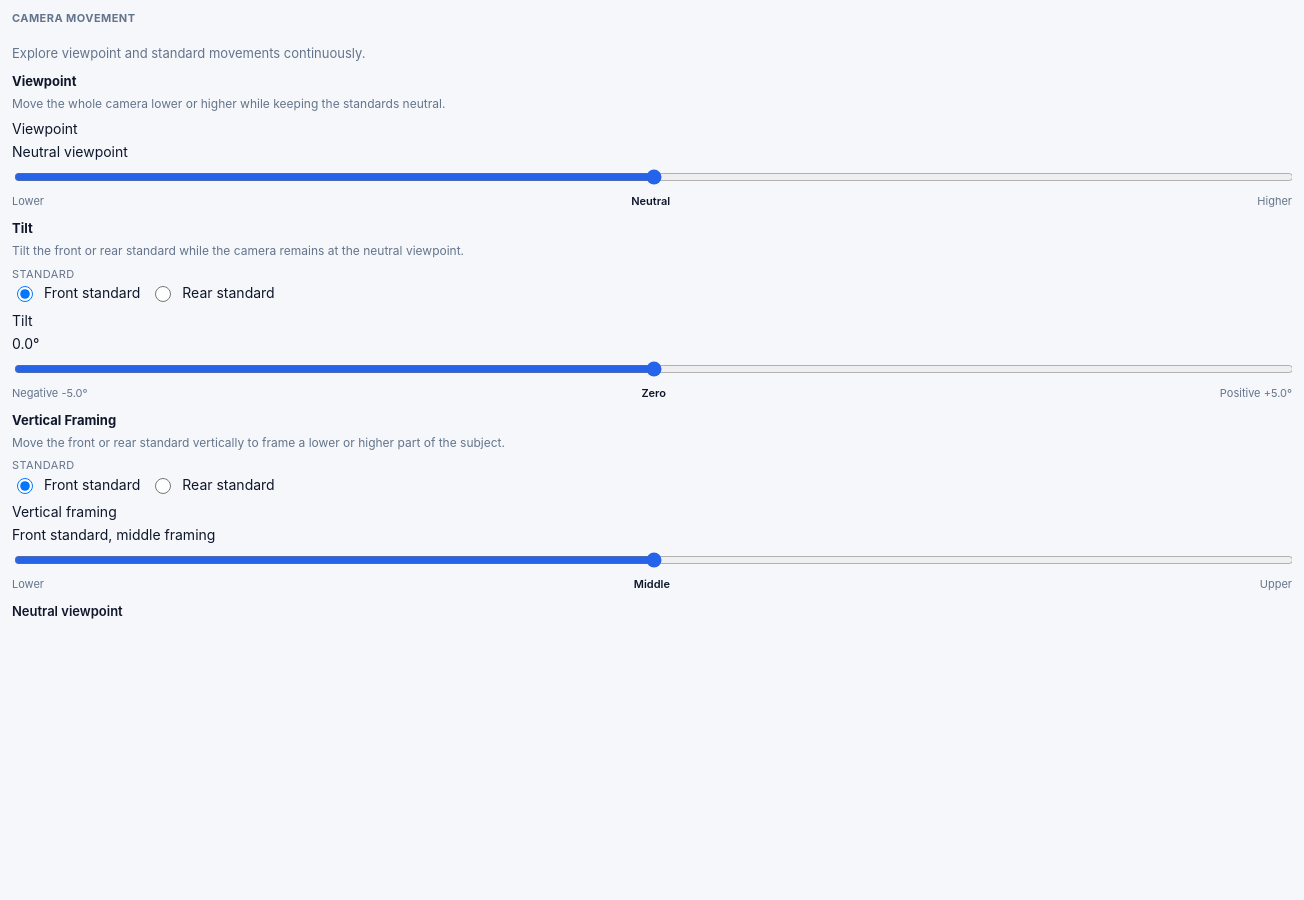
CameraMovementTeachingControls › applies positive Front tilt only and transfers the signed value to Rear
The image size is (1304, 900).
Set the slider labelled "Tilt" to "5" at (1284, 369), box x1=14 y1=361 x2=1292 y2=377
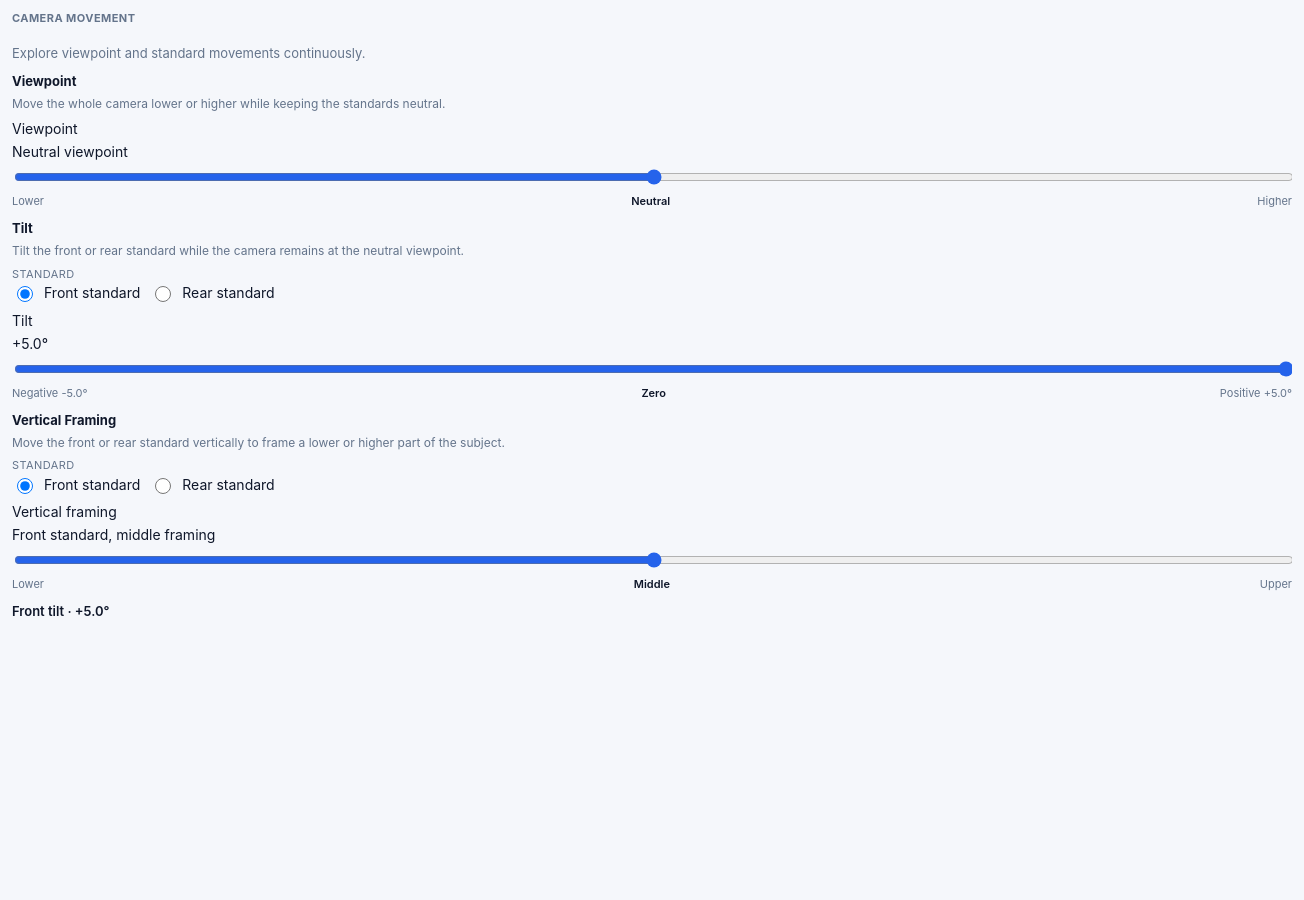
Result: the message reads "Front tilt · +5.0°" at x1=12 y1=603 x2=110 y2=619
Click the 1st radio button labelled "Rear standard" at (163, 294), box x1=155 y1=286 x2=171 y2=302
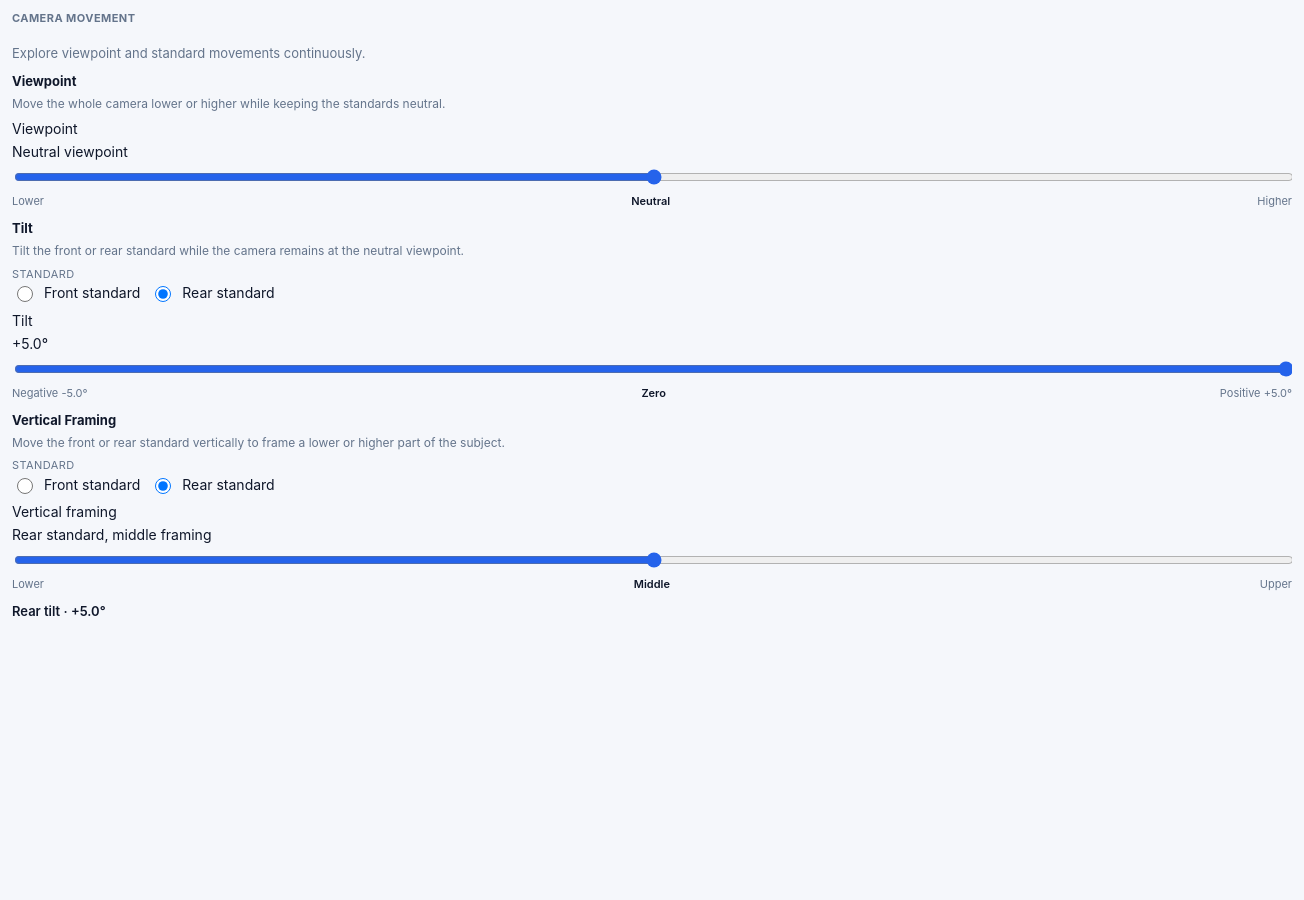
Result: the message reads "Rear tilt · +5.0°" at x1=12 y1=603 x2=106 y2=619
